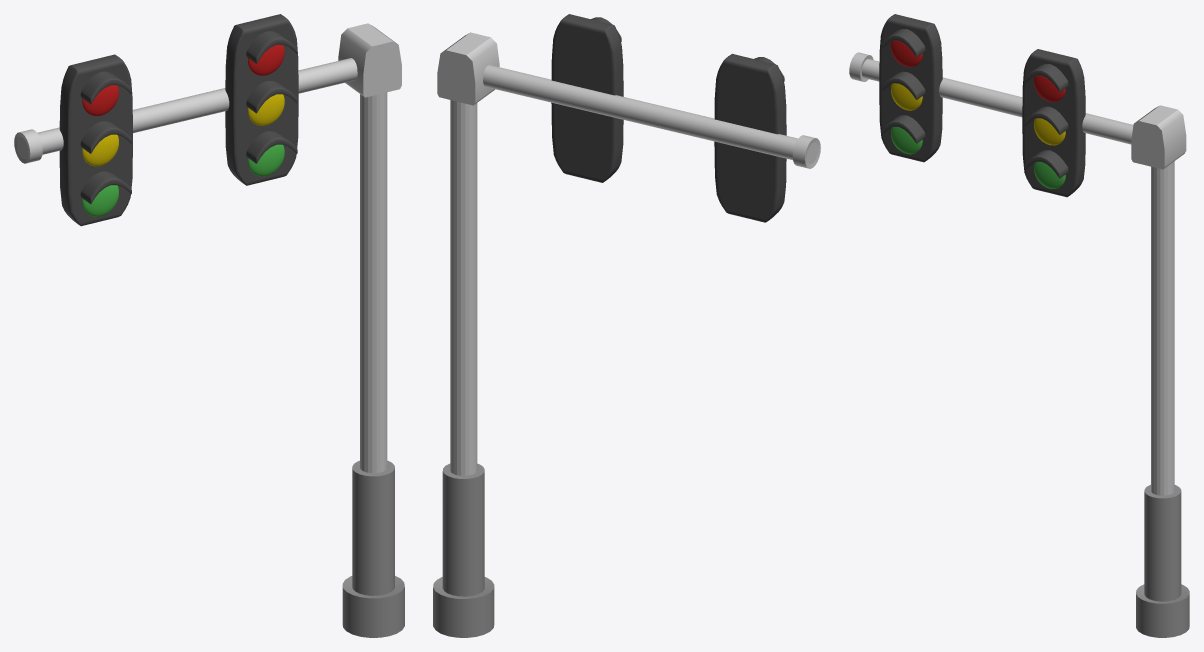
File: traffic light#1.fbx
The picture shows the model from 3 angles, left to right: view 1: azimuth 30°, elevation 25°; view 2: azimuth 150°, elevation 25°; view 3: azimuth 330°, elevation 25°; orthographic projection. The views are drawn at different scales.
Parts seen in each view (by area): view 1: pCube50, pSphere13, pSphere10, pSphere9, pSphere12, pSphere8, pSphere11; view 2: pCube50; view 3: pCube50, pSphere12, pSphere9, pSphere10, pSphere13, pSphere8, pSphere11.
Boxes of the visible parts, <box> form: pCube50: <box>14,14,404,637</box>; pSphere13: <box>248,144,284,176</box>; pSphere10: <box>82,185,118,216</box>; pSphere9: <box>82,134,118,166</box>; pSphere12: <box>248,94,284,125</box>; pSphere8: <box>82,85,118,116</box>; pSphere11: <box>248,44,284,75</box>; pCube50: <box>433,14,820,637</box>; pCube50: <box>849,14,1189,637</box>; pSphere12: <box>1034,118,1065,145</box>; pSphere9: <box>891,83,922,110</box>; pSphere10: <box>891,127,922,154</box>; pSphere13: <box>1034,162,1065,188</box>; pSphere8: <box>891,40,922,67</box>; pSphere11: <box>1034,75,1065,102</box>.
Bounding box in the file's own units: 20.27 × 32.45 × 3.46.
